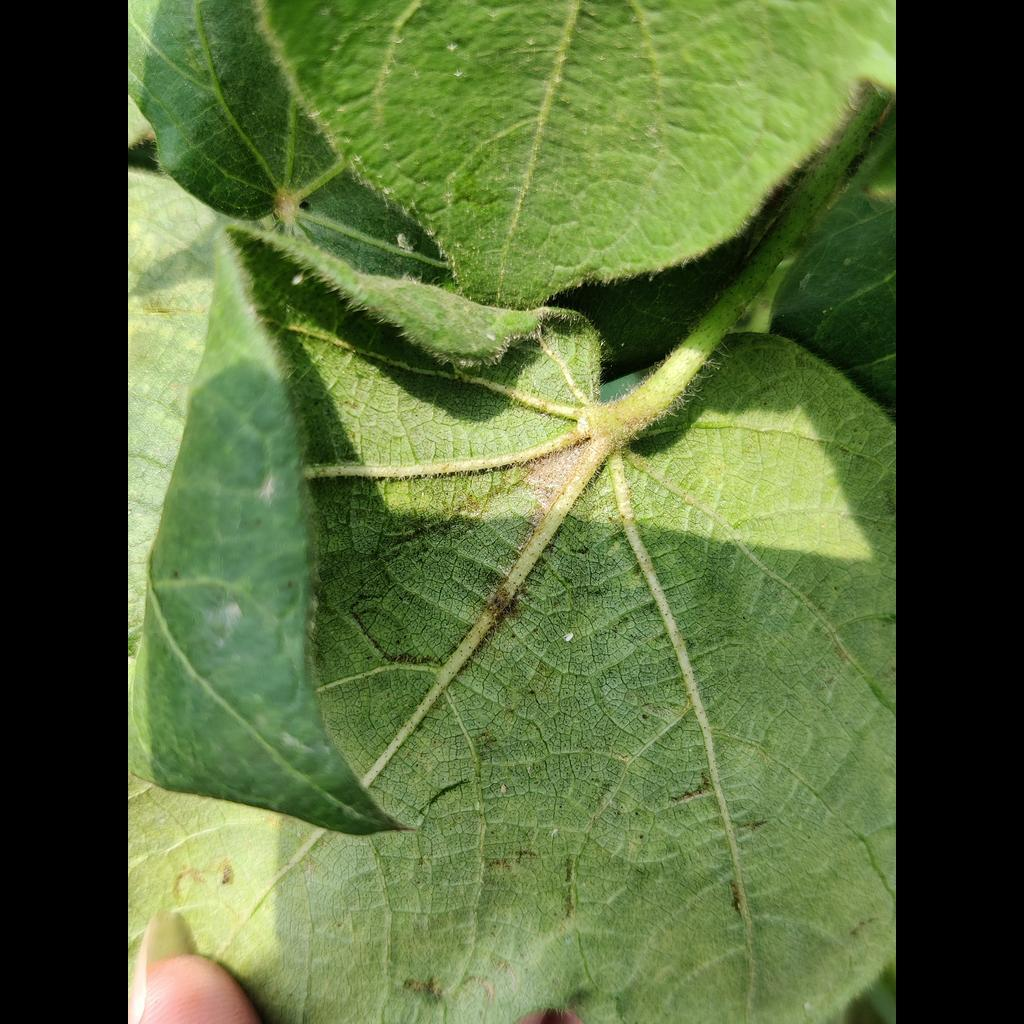adult: (291, 274, 303, 286), (563, 632, 573, 641)
nymph: (500, 784, 508, 793), (487, 334, 495, 341)
